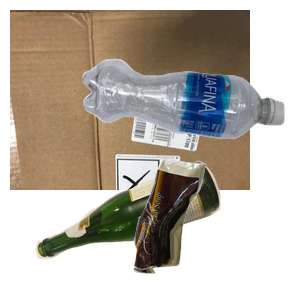cardboard: (10, 10, 250, 190)
glass: (33, 158, 246, 300)
plastic: (80, 56, 300, 187)
trash: (131, 157, 300, 300)
